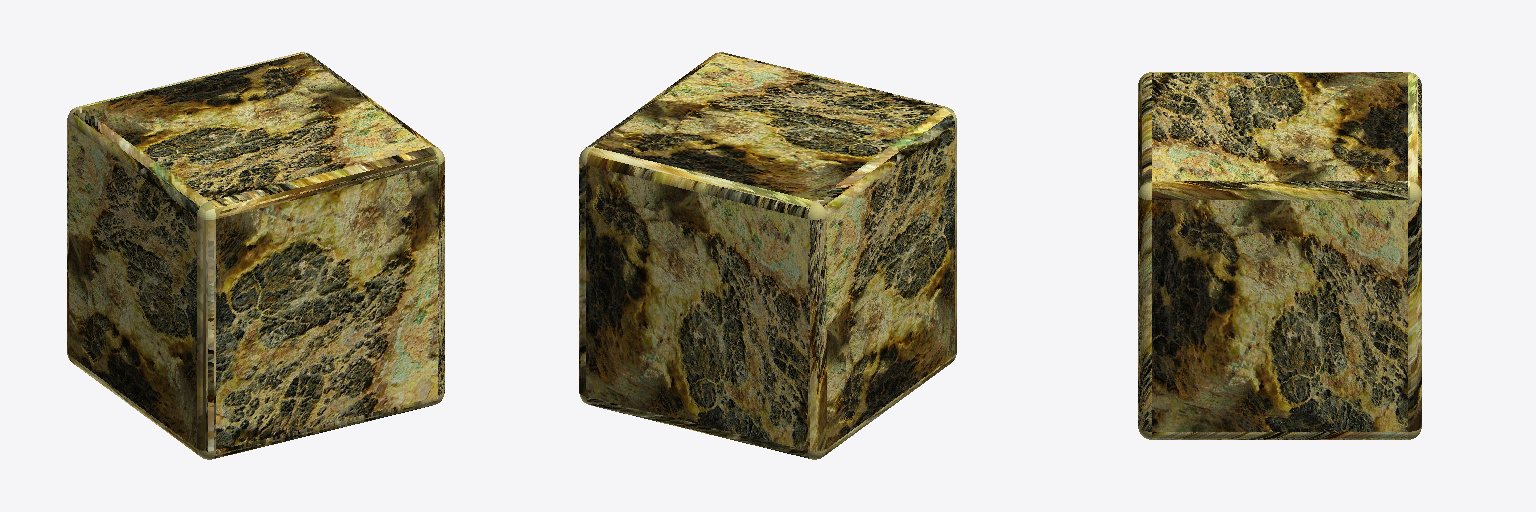
3 views of the same model, side by side, from view 1: azimuth 30°, elevation 25°; view 2: azimuth 150°, elevation 25°; view 3: azimuth 270°, elevation 25° (orthographic).
Visible parts, largest first — view 1: Cube; view 2: Cube; view 3: Cube.
Part boxes in pixels (bbox=[...]): Cube: bbox=[67, 52, 444, 459]; Cube: bbox=[579, 52, 956, 459]; Cube: bbox=[1138, 72, 1421, 439].
Bounding box in the file's own units: 2 × 2 × 2.
1 materials, 1 textured.